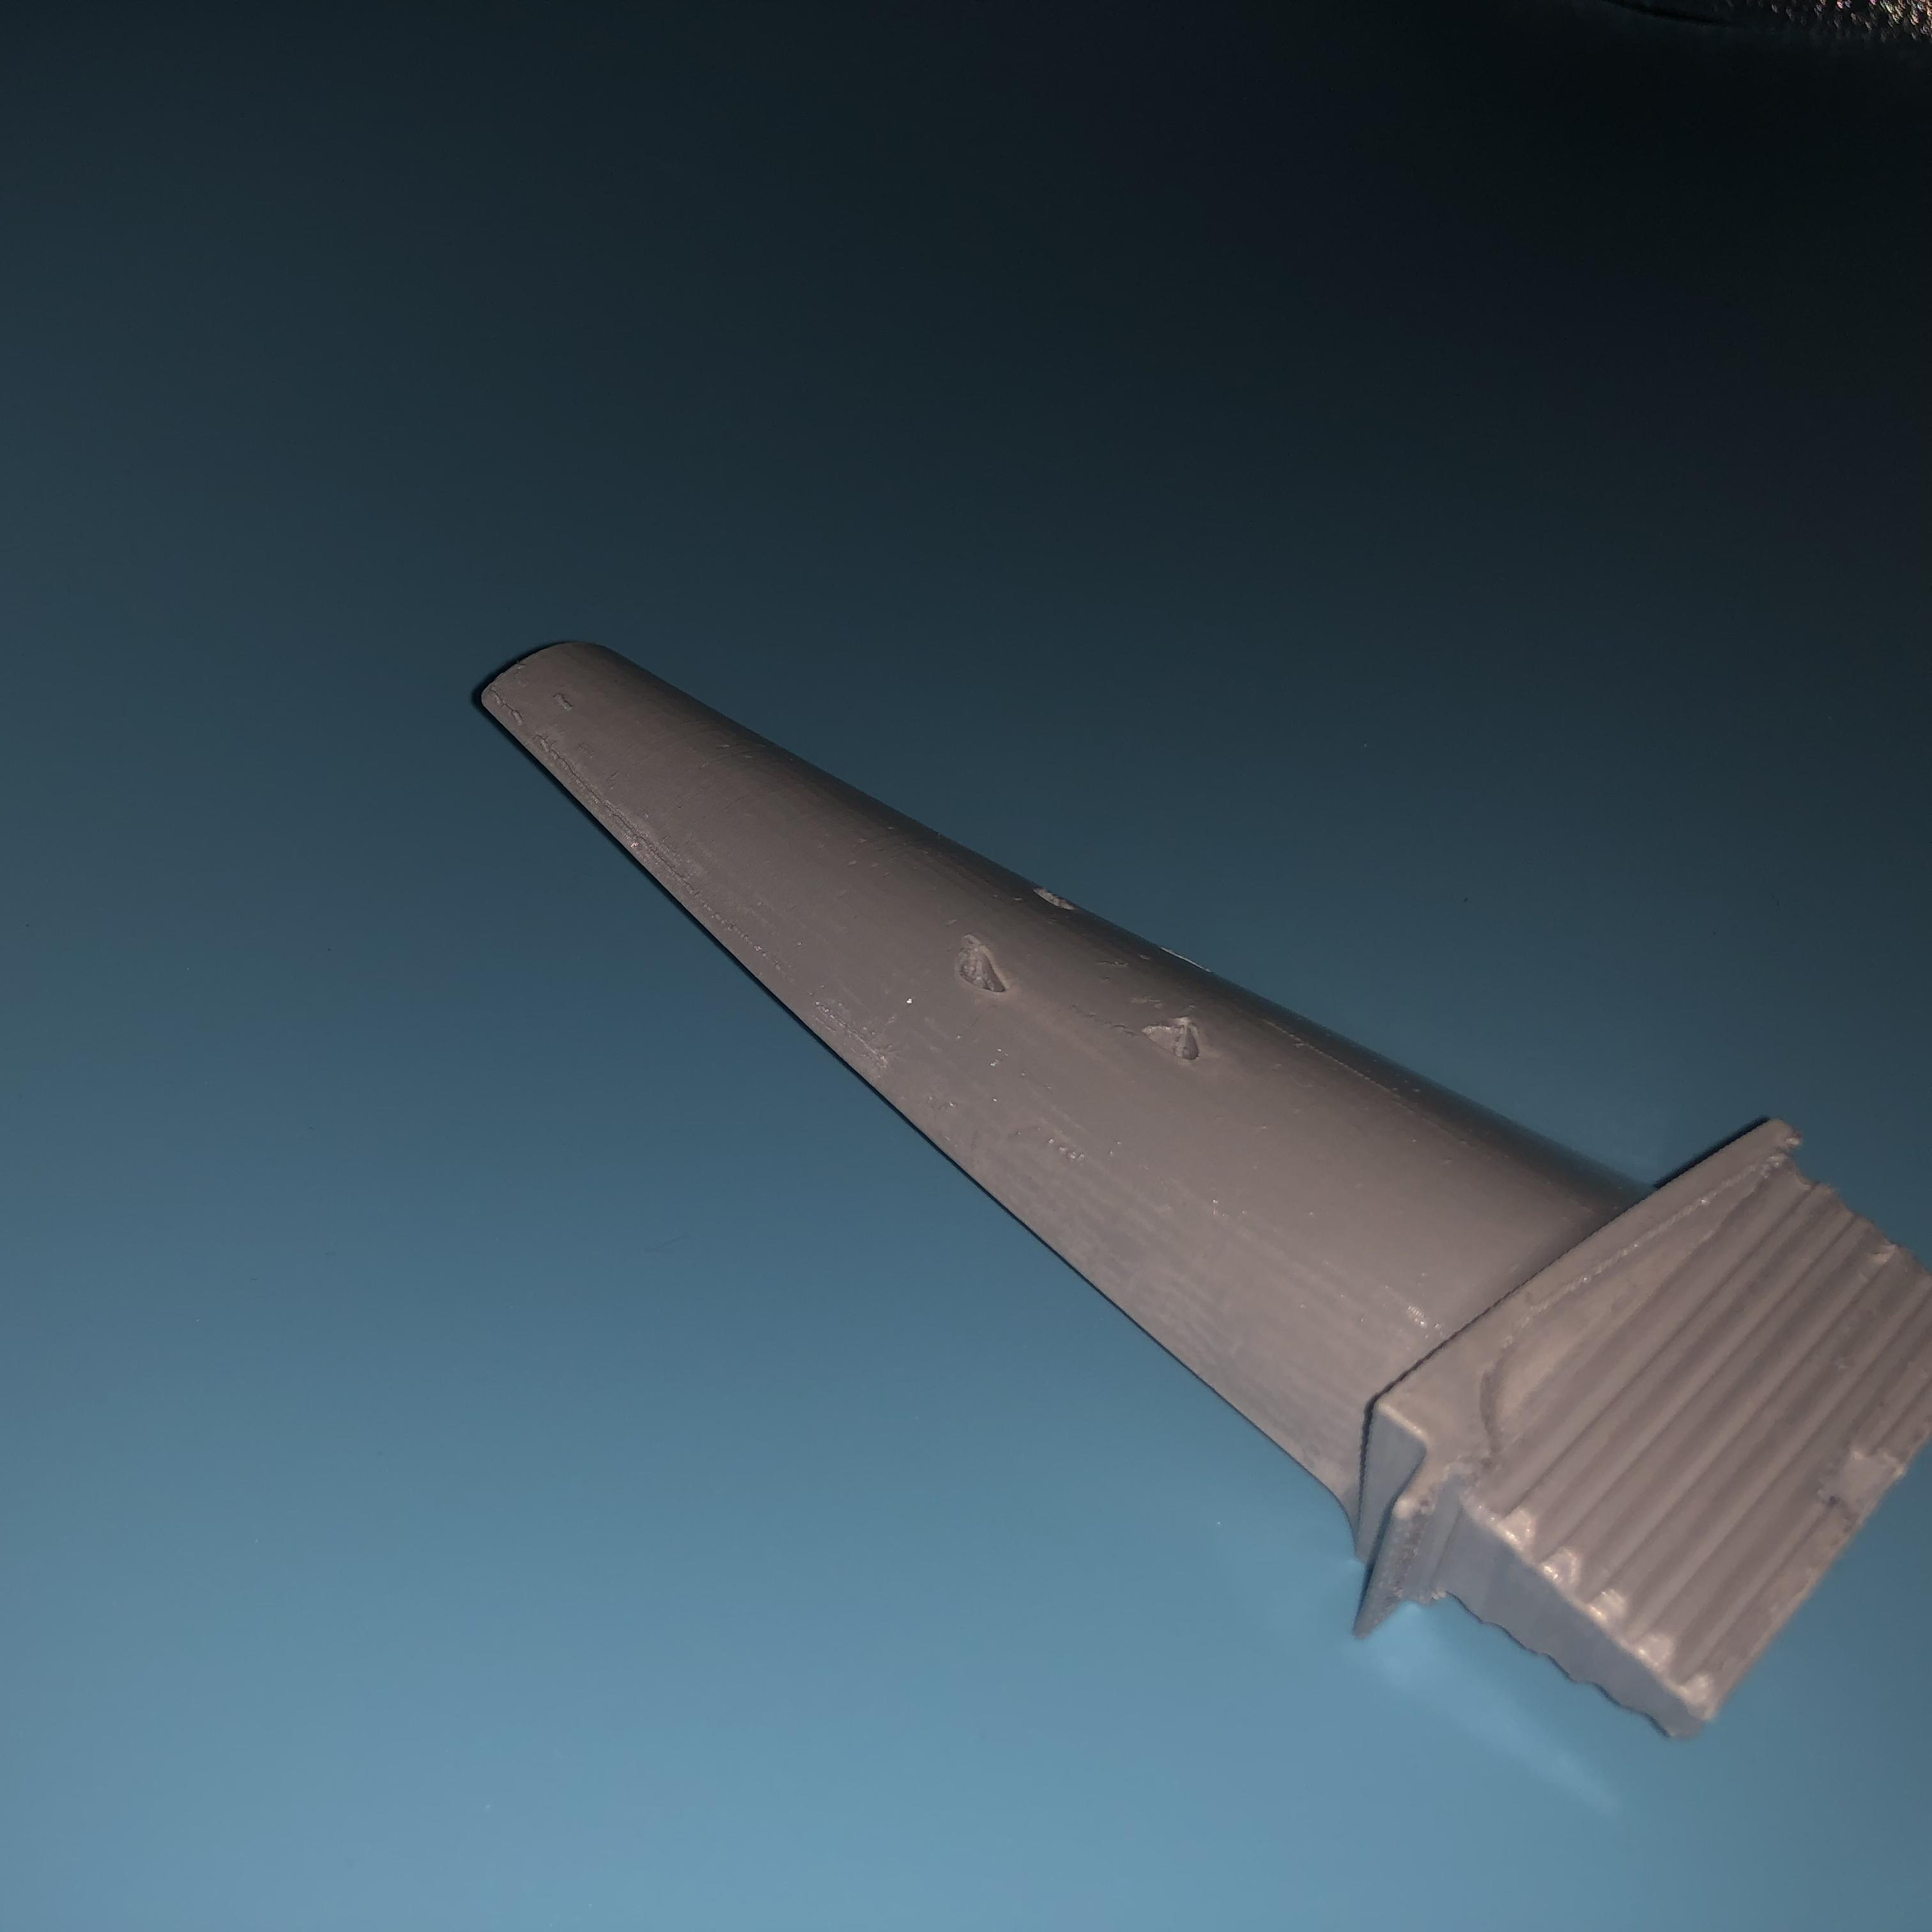breakdown: (950, 878, 1226, 1058)
